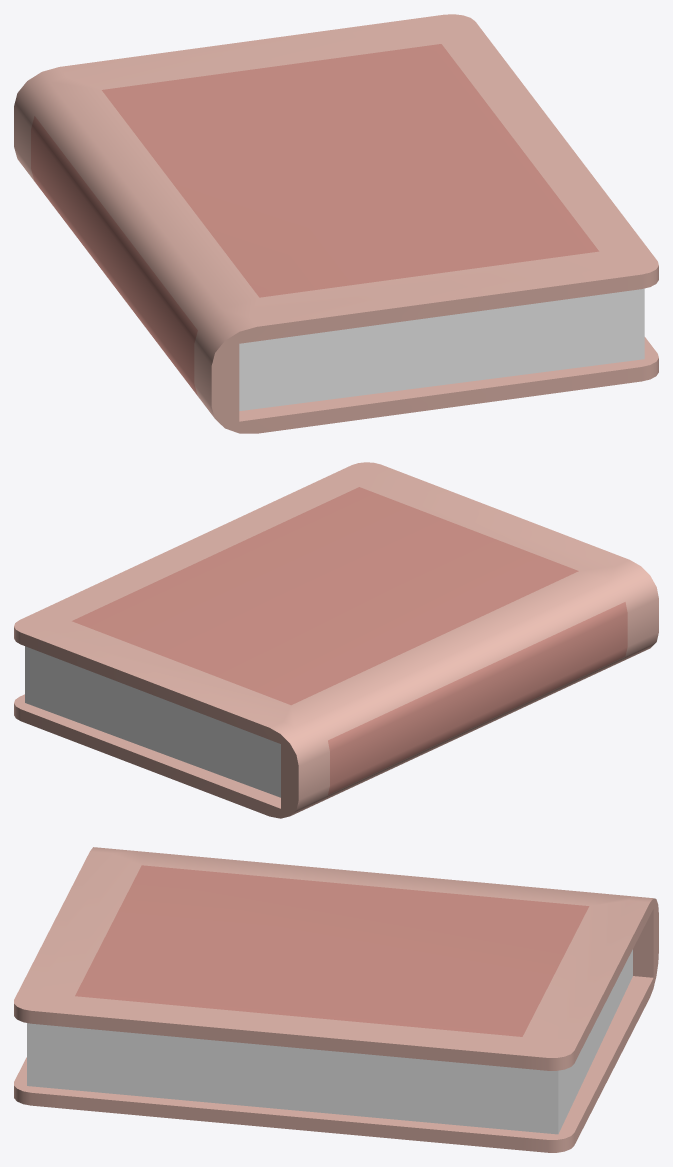
Rendered from book_19.fbx.
The picture shows the model from 3 angles, top to bottom: view 1: azimuth 30°, elevation 25°; view 2: azimuth 150°, elevation 25°; view 3: azimuth 270°, elevation 25°; orthographic projection. The views are drawn at different scales.
Visible parts, largest first — view 1: book_19; view 2: book_19; view 3: book_19.
Part boxes in pixels (box(x1,y1,x2,y2)): book_19: box(14, 14, 658, 433); book_19: box(14, 462, 658, 818); book_19: box(14, 847, 658, 1152).
Bounding box in the file's own units: 0.3459 × 0.0683 × 0.4211.
